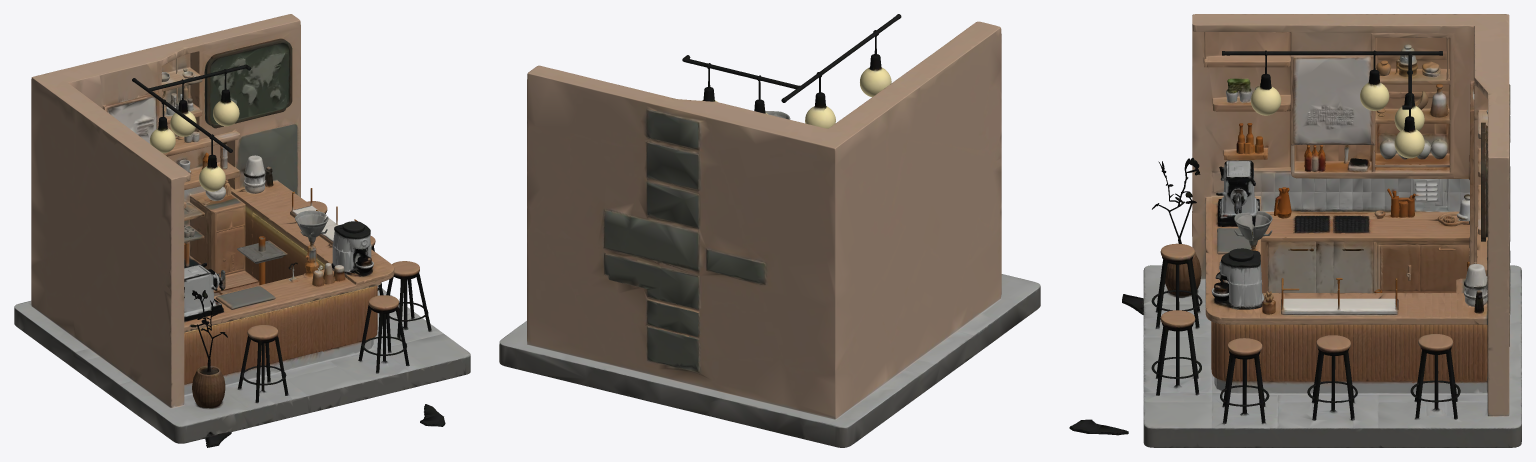
Rendered from StockCake-3d-generator-Cozy_Coffee_Corner-3331688.glb.
3 views of the same model, side by side, from view 1: azimuth 30°, elevation 25°; view 2: azimuth 150°, elevation 25°; view 3: azimuth 270°, elevation 25° (orthographic). The views are drawn at different scales.
Visible parts, largest first — view 1: tripo_node_d880979c-c108-4928-856a-1224f95e9c23; view 2: tripo_node_d880979c-c108-4928-856a-1224f95e9c23; view 3: tripo_node_d880979c-c108-4928-856a-1224f95e9c23.
Boxes of the visible parts, x1,y1,x2,y2 form: tripo_node_d880979c-c108-4928-856a-1224f95e9c23: (14, 14, 470, 447); tripo_node_d880979c-c108-4928-856a-1224f95e9c23: (499, 14, 1040, 447); tripo_node_d880979c-c108-4928-856a-1224f95e9c23: (1069, 14, 1521, 447).
Size of the model in its own units: 0.8384 by 0.7154 by 0.982.
1 material, 1 textured.
